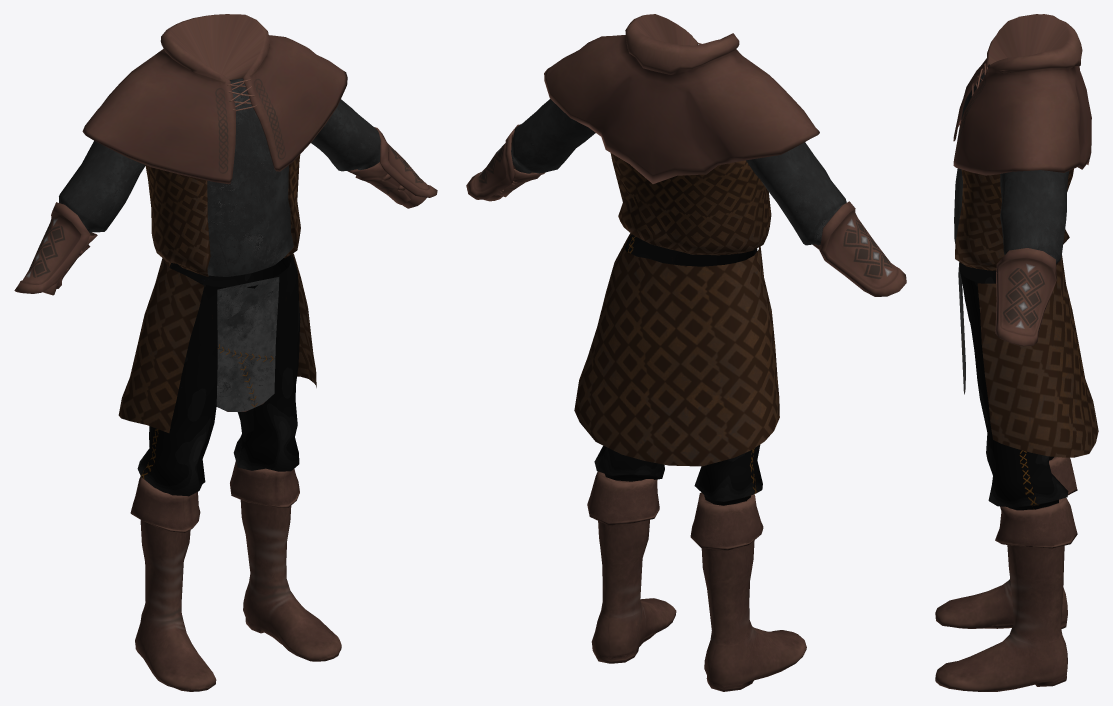
Rendered from Robe_part_0.fbx.
3 views of the same model, side by side, from view 1: azimuth 30°, elevation 25°; view 2: azimuth 150°, elevation 25°; view 3: azimuth 270°, elevation 25° (orthographic). The views are drawn at different scales.
Visible parts, largest first — view 1: Druid_Clothes_0.001; view 2: Druid_Clothes_0.001; view 3: Druid_Clothes_0.001.
Part boxes in pixels (box(x1,y1,x2,y2)): Druid_Clothes_0.001: box(14, 14, 437, 691); Druid_Clothes_0.001: box(466, 14, 906, 691); Druid_Clothes_0.001: box(935, 14, 1098, 691).
Size of the model in its own units: 111173 by 156399 by 37475.
